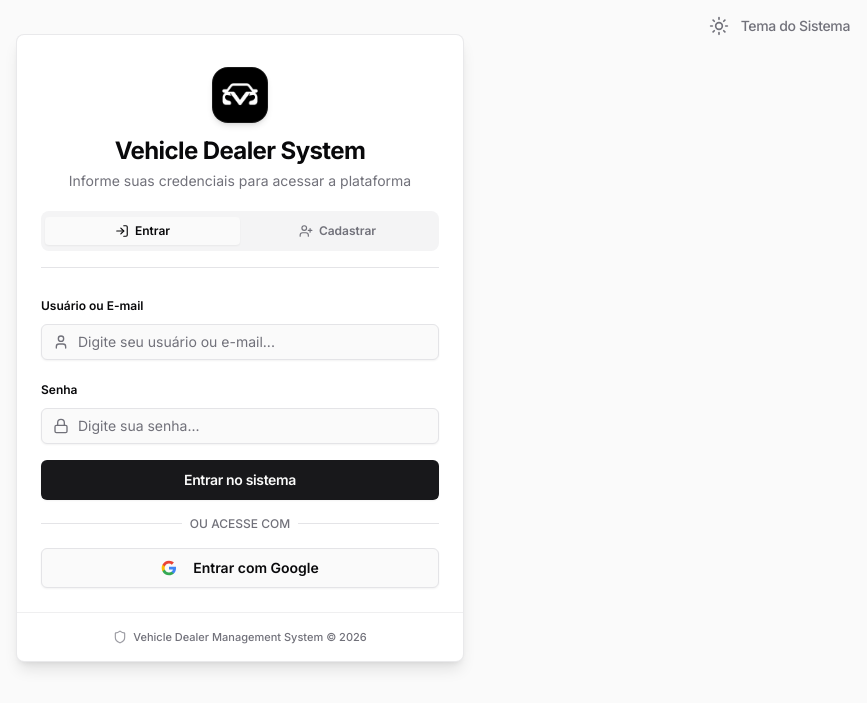
Test: LoginPage › should switch mode to registration when clicking Cadastrar tab
This screenshot has width=867, height=703.
Click the tab "Cadastrar" at (338, 231), box [240,217,435,245]
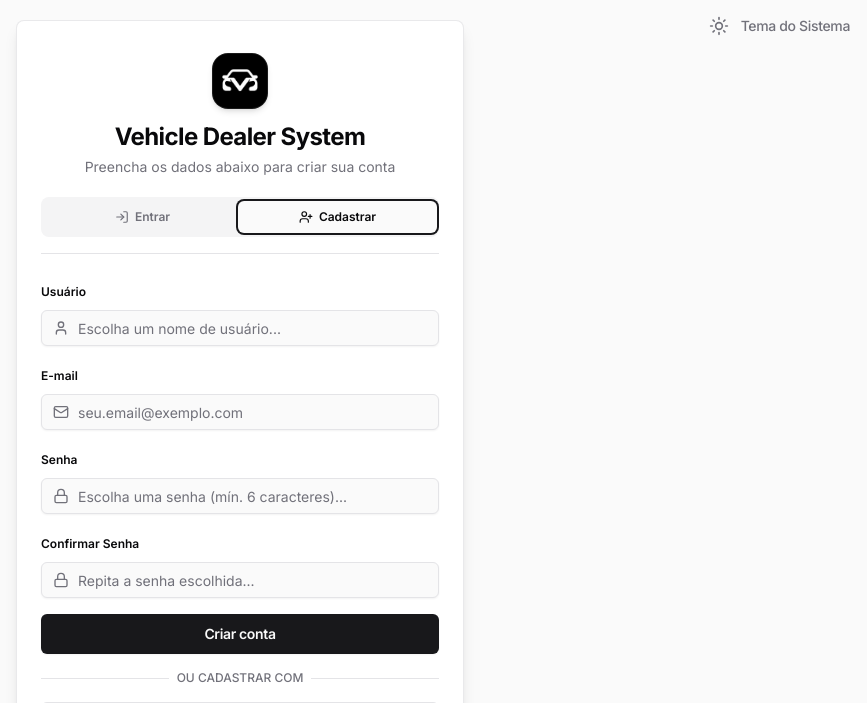
expect the text "Preencha os dados abaixo para criar sua conta" is shown: met, box [85,158,395,175]
expect the field with placeholder "Escolha um nome de usuário..." is shown: met, box [41,310,439,346]
expect the password field with placeholder "Escolha uma senha (mín. 6 caracteres)..." is shown: met, box [41,478,439,514]
